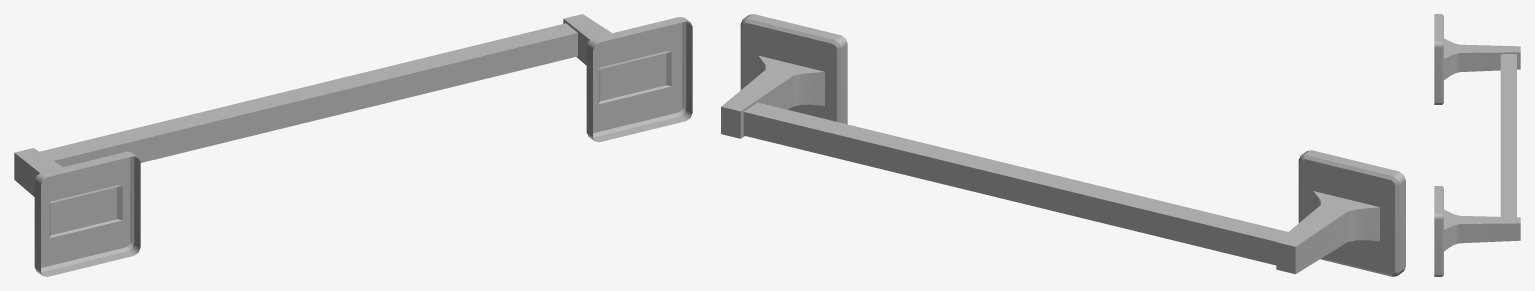
The model's file is SM_Towel_Rack.fbx.
The picture shows the model from 3 angles, left to right: view 1: azimuth 30°, elevation 25°; view 2: azimuth 150°, elevation 25°; view 3: azimuth 270°, elevation 25°; orthographic projection. The views are drawn at different scales.
Parts seen in each view (by area): view 1: SM_Towel_Rack_LOD0; view 2: SM_Towel_Rack_LOD0; view 3: SM_Towel_Rack_LOD0.
Boxes of the visible parts, bbox=[...] form: SM_Towel_Rack_LOD0: bbox=[14, 14, 692, 276]; SM_Towel_Rack_LOD0: bbox=[721, 14, 1405, 276]; SM_Towel_Rack_LOD0: bbox=[1434, 14, 1520, 276].
Size of the model in its own units: 121 by 21.79 by 17.7.
Materials: 1 (1 with a texture image).
